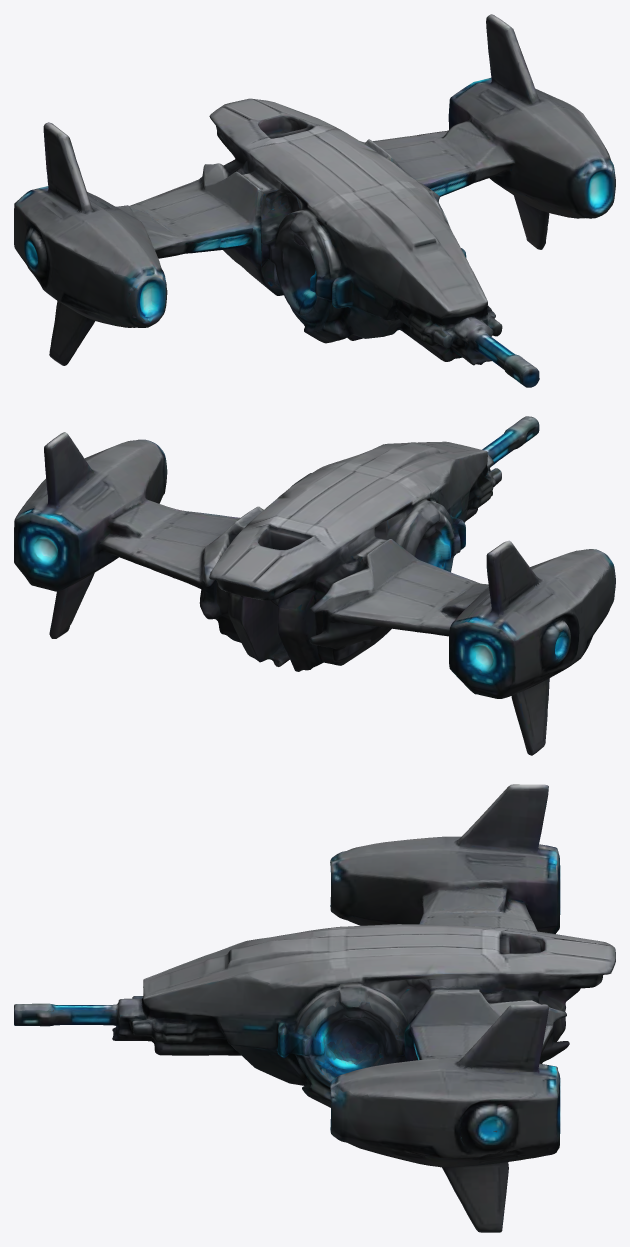
File: sci_fi_fighter_spacecraft.glb
The picture shows the model from 3 angles, top to bottom: view 1: azimuth 30°, elevation 25°; view 2: azimuth 150°, elevation 25°; view 3: azimuth 270°, elevation 25°; orthographic projection.
Parts seen in each view (by area): view 1: input; view 2: input; view 3: input.
Boxes of the visible parts, box(x1,y1,x2,y2) form: input: box(14, 14, 615, 387); input: box(14, 416, 615, 755); input: box(14, 784, 615, 1232).
Size of the model in its own units: 8.5 by 3.3 by 8.2.
1 material, 1 textured.
